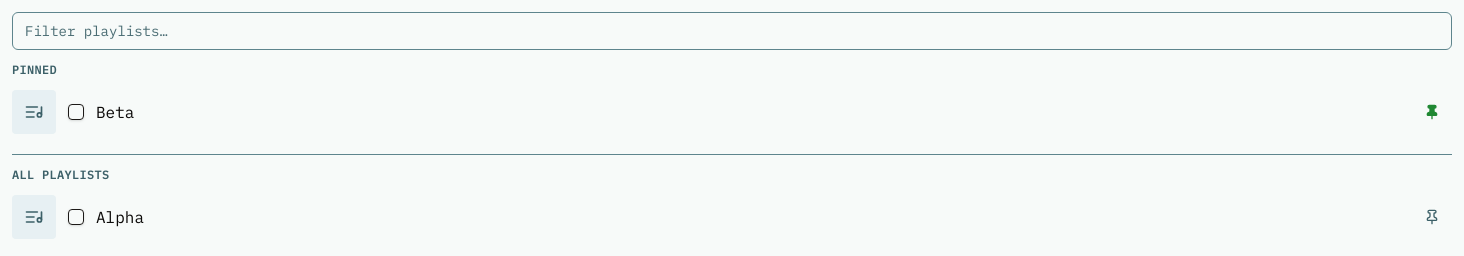
Test case: PlaylistList › shows a message naming the filter text when nothing matches, not the generic empty state
Step 1. Type "zzz-no-match" into the field labelled "Filter playlists" → (732, 31), box left=12, top=12, right=1452, bottom=50
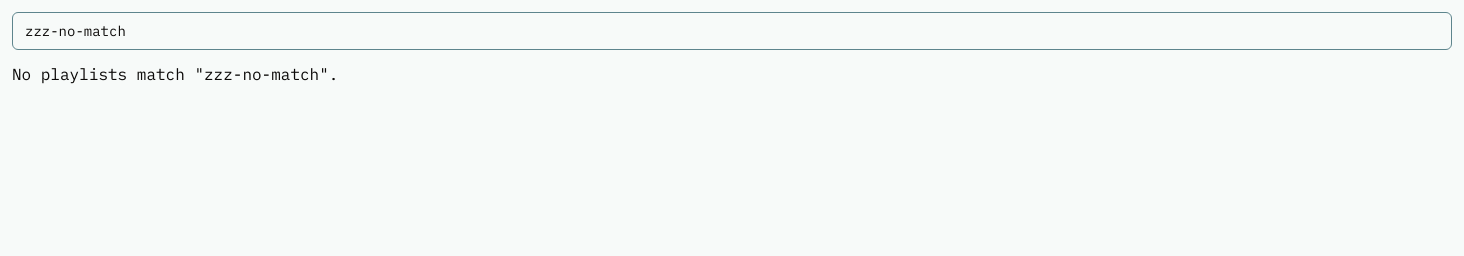
Check: the text "No playlists match \"zzz-no-match\"." is shown, box left=12, top=64, right=338, bottom=84
